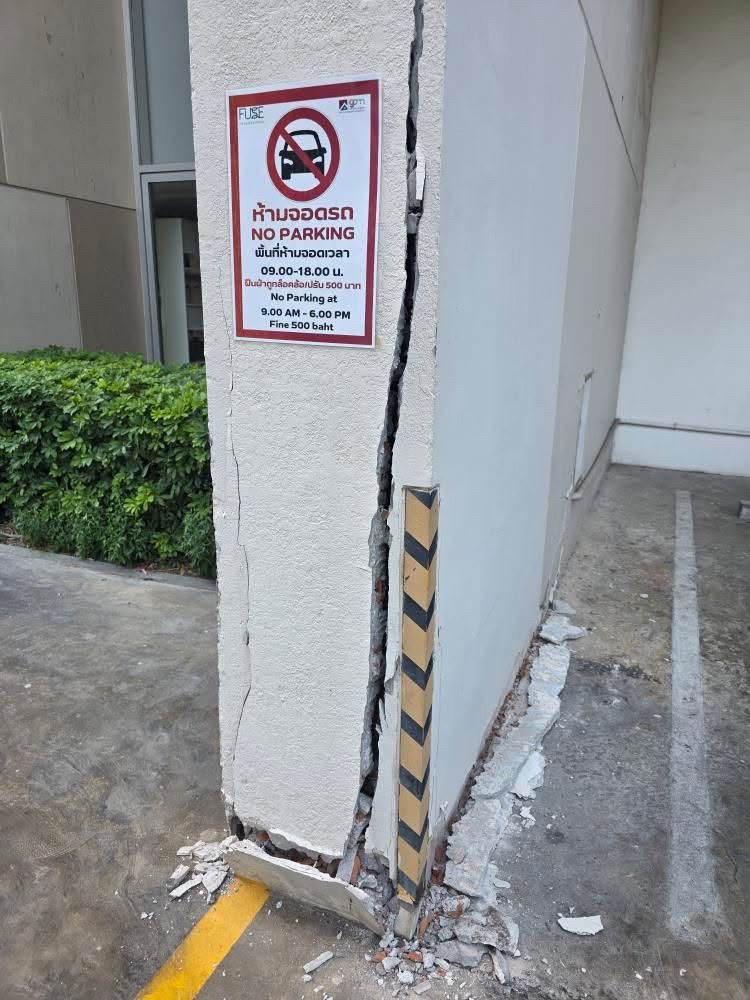High: (218, 1, 424, 905)
